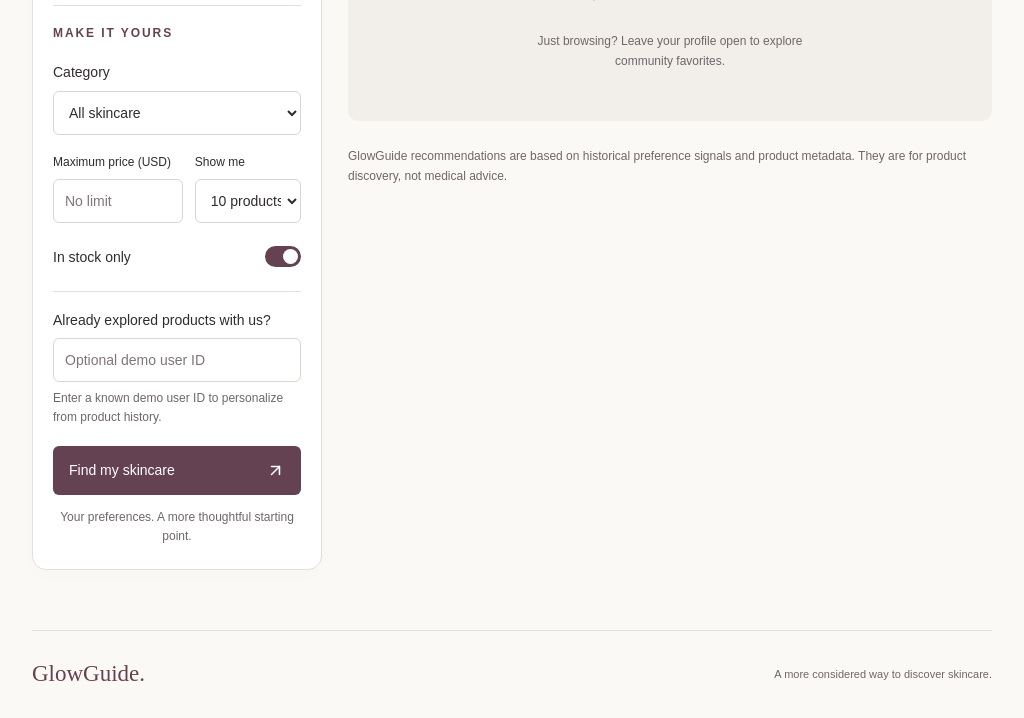
recommendation experience › shows actual collaborative explanation without fetching and preserves results
(page scrolled)
Step 1. Click the button "Find my skincare" → (177, 470), box [53, 446, 301, 495]
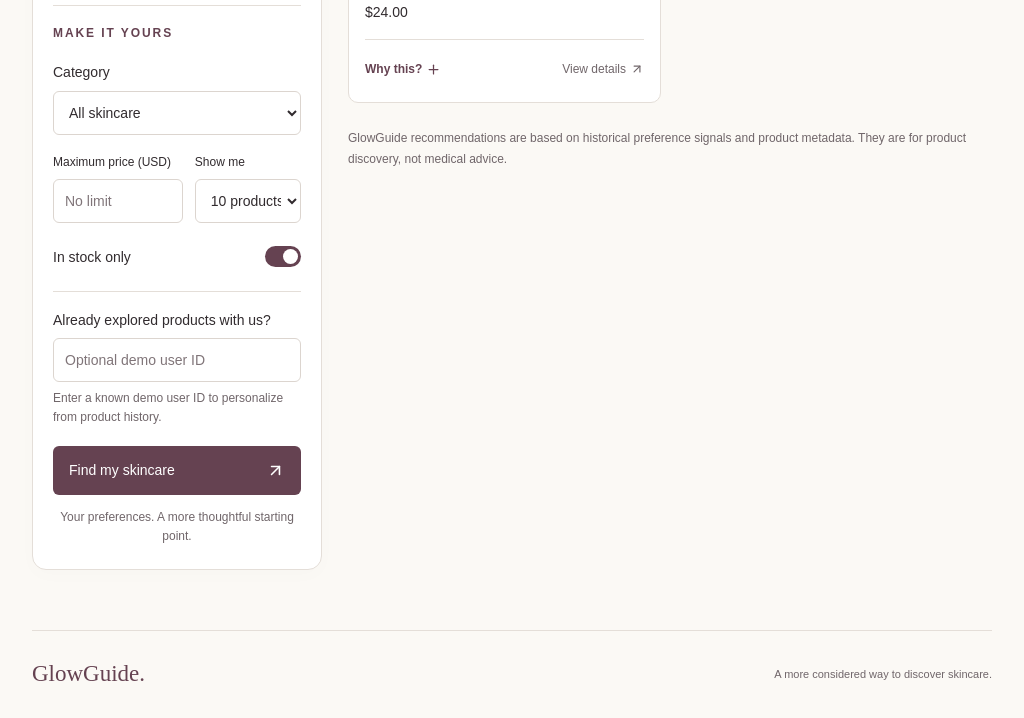
Step 2. Click the button "Why this?" → (403, 69), box [365, 49, 441, 89]
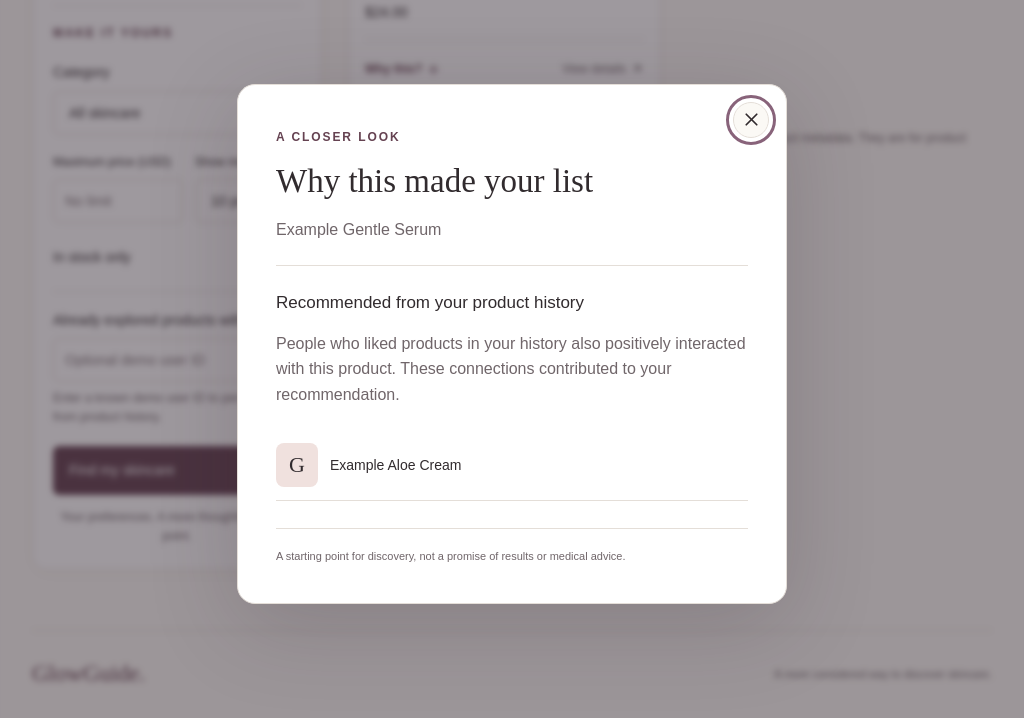
Check: the list item "Example Aloe Cream" is shown, box [330, 457, 461, 473]
Step 3. Press Escape
(page scrolled)
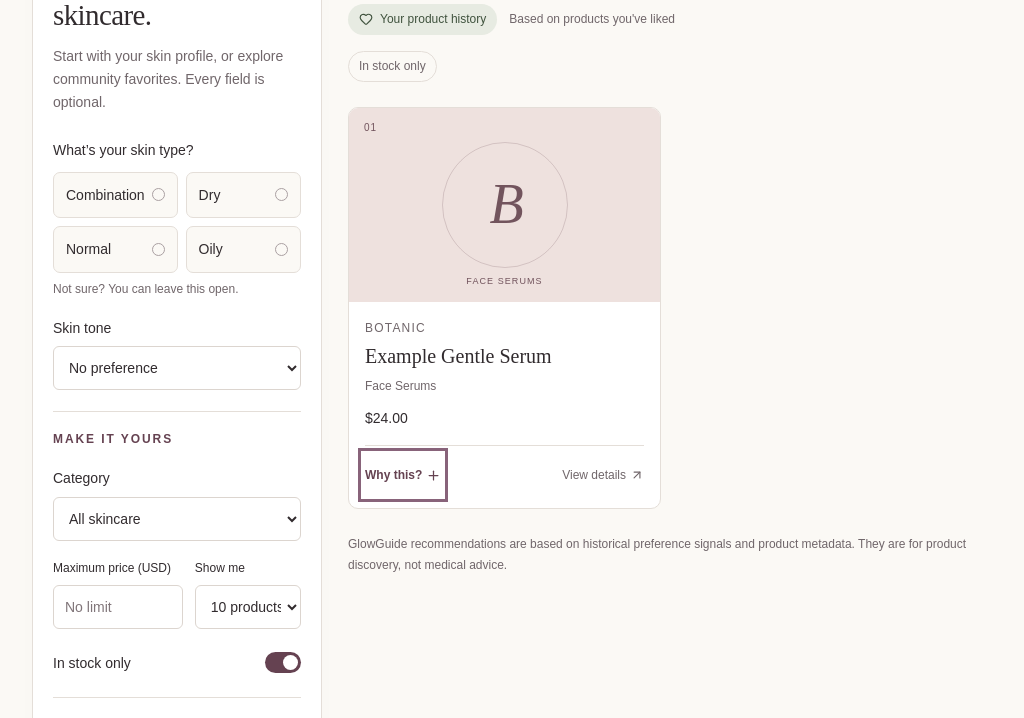
Check: the heading "Example Gentle Serum" is shown, box [365, 345, 552, 367]
Check: the dialog is gone
